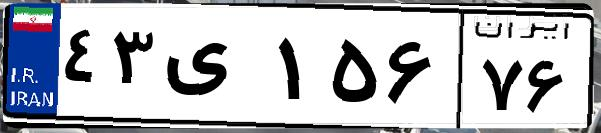1: (270, 28, 330, 110)
3: (110, 28, 158, 98)
4: (57, 26, 110, 100)
5: (330, 28, 385, 110)
6: (385, 28, 445, 110), (525, 38, 570, 115)
7: (475, 38, 525, 113)
ی: (158, 20, 270, 120)
